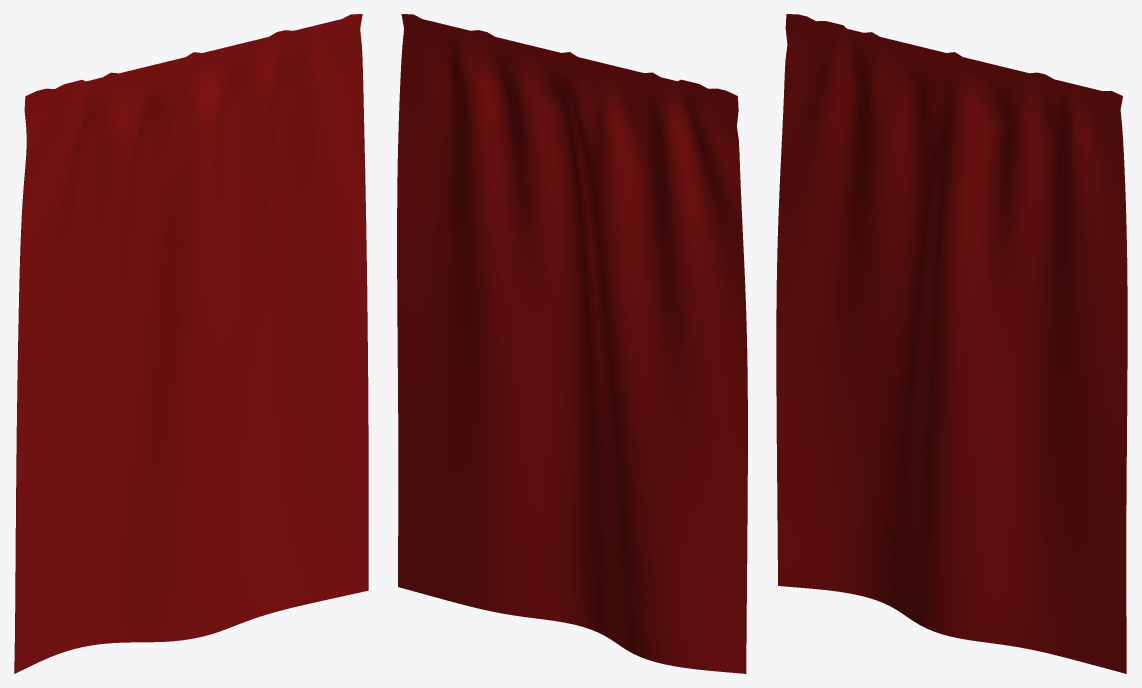
File: MSH_Bandera.FBX
3 renders of one model, left to right at view 1: azimuth 30°, elevation 25°; view 2: azimuth 150°, elevation 25°; view 3: azimuth 330°, elevation 25°, orthographic.
Visible parts, largest first — view 1: G_Bandera; view 2: G_Bandera; view 3: G_Bandera.
Boxes of the visible parts, left/top/right/bottom form: G_Bandera: left=14, top=14, right=368, bottom=673; G_Bandera: left=397, top=14, right=747, bottom=673; G_Bandera: left=776, top=14, right=1127, bottom=673.
Bounding box in the file's own units: 80.58 × 127 × 7.83.
